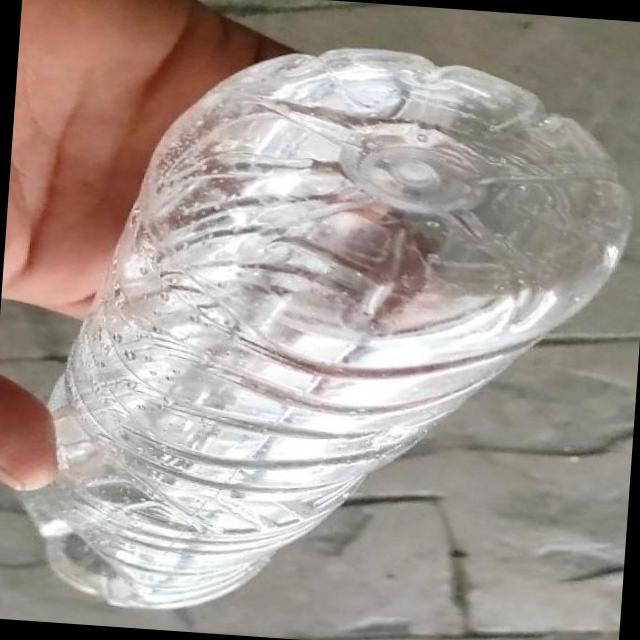plastic_bottle: (12, 26, 640, 640)
